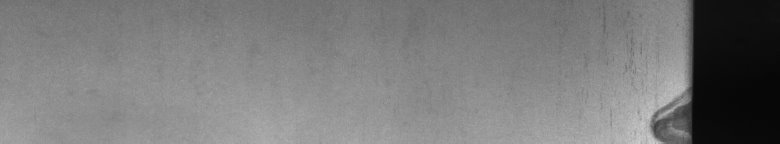hb: (603, 20, 680, 136)
